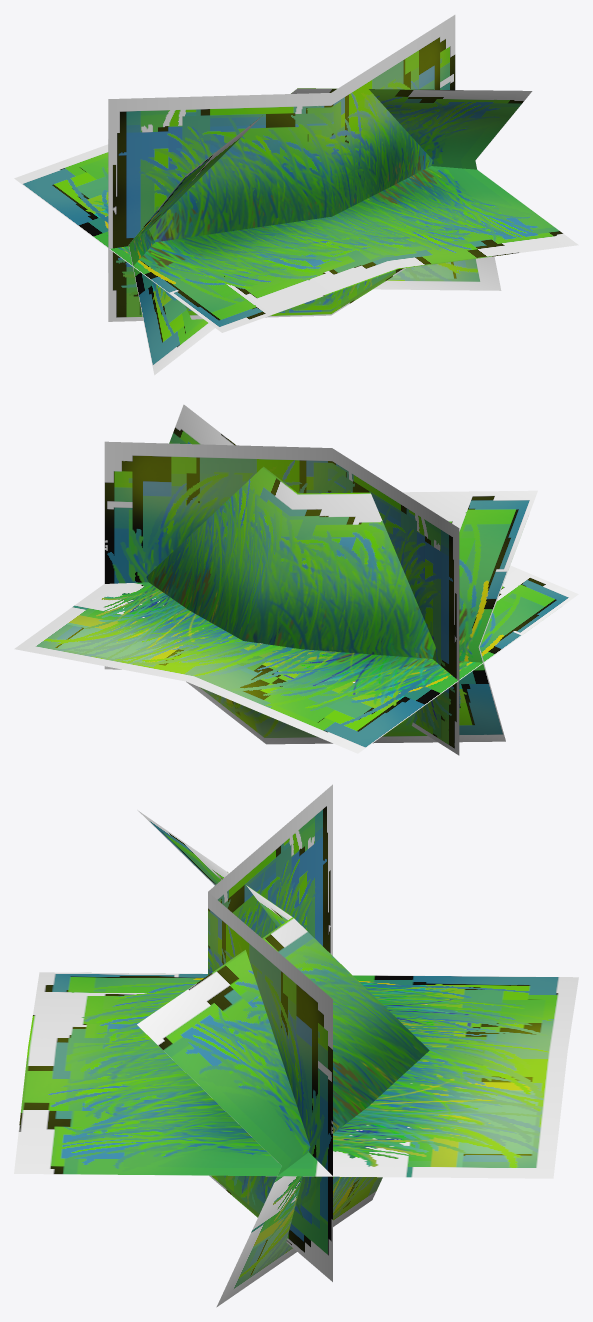
File: FloatgrassPod1.fbx
The picture shows the model from 3 angles, top to bottom: view 1: azimuth 30°, elevation 25°; view 2: azimuth 150°, elevation 25°; view 3: azimuth 270°, elevation 25°; orthographic projection. The views are drawn at different scales.
Visible parts, largest first — view 1: Plane.013; view 2: Plane.013; view 3: Plane.013.
Part boxes in pixels (bbox=[...]): Plane.013: bbox=[14, 15, 578, 375]; Plane.013: bbox=[14, 404, 578, 755]; Plane.013: bbox=[14, 784, 578, 1307].
Bounding box in the file's own units: 202 × 134 × 222.
